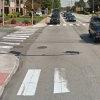Crosswalk: (2, 23, 36, 58)
